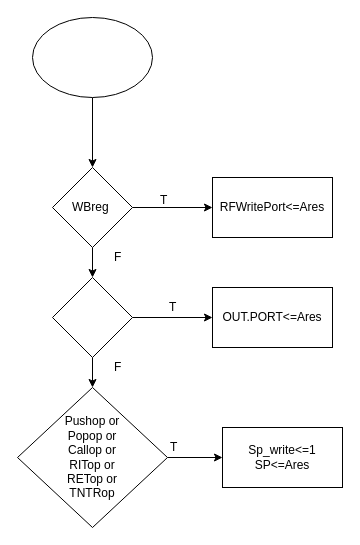
The diagram is 360 pixels wide and 545 high, and some of its shapes have lost their labels. The shapes that lost their labels are listed below. From the top down, each one's box as (x1, y1, x2, y2) in pixels, then its label:
(32, 16, 152, 98): Start
(52, 276, 132, 358): OUTop
